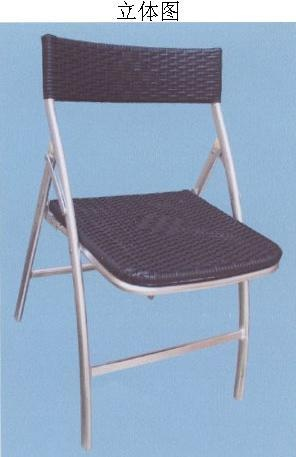obstacle: (15, 34, 281, 448)
